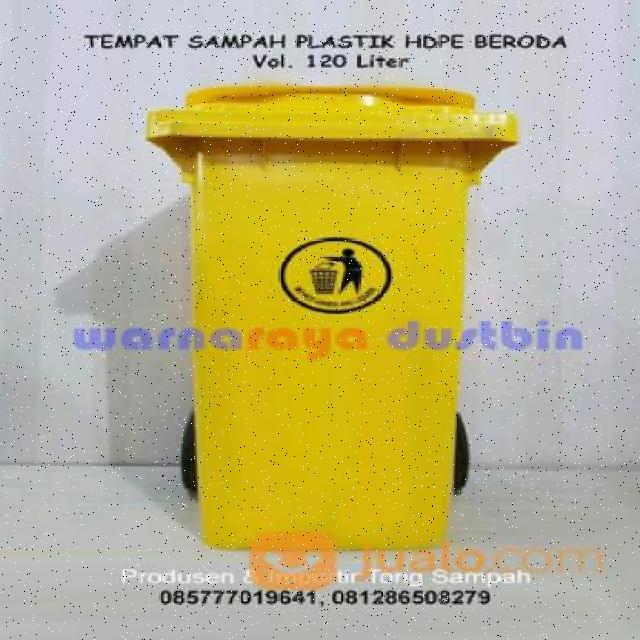garbage container: (129, 71, 542, 548)
